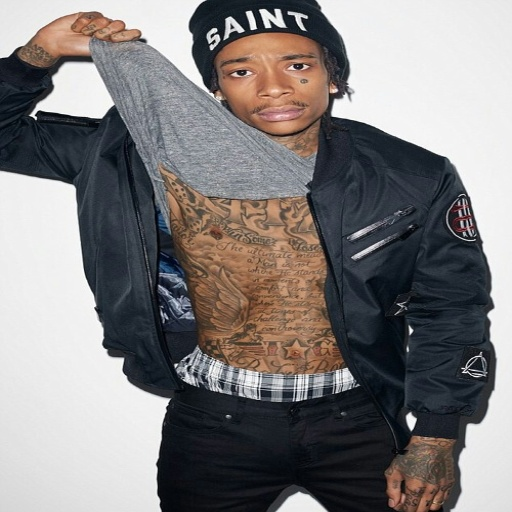hand: (25, 2, 136, 57), (381, 445, 457, 511)
